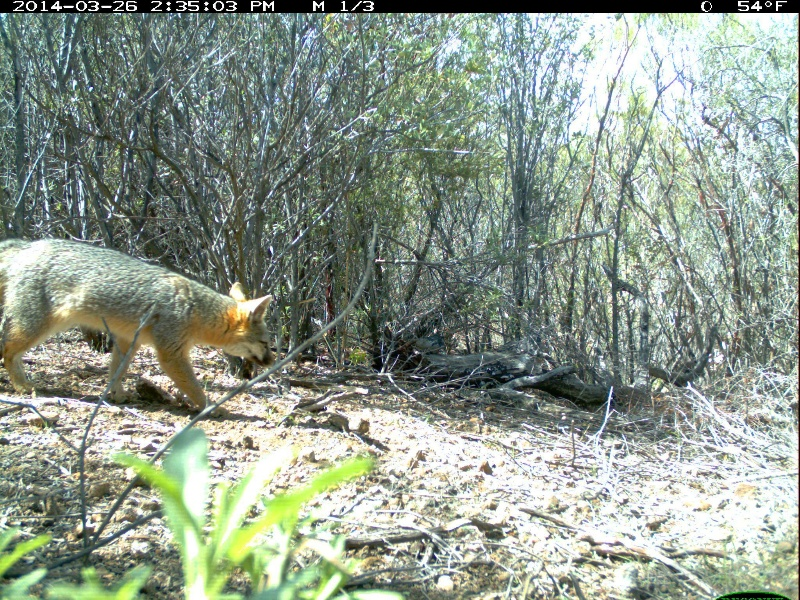coyote: (1, 221, 282, 425)
